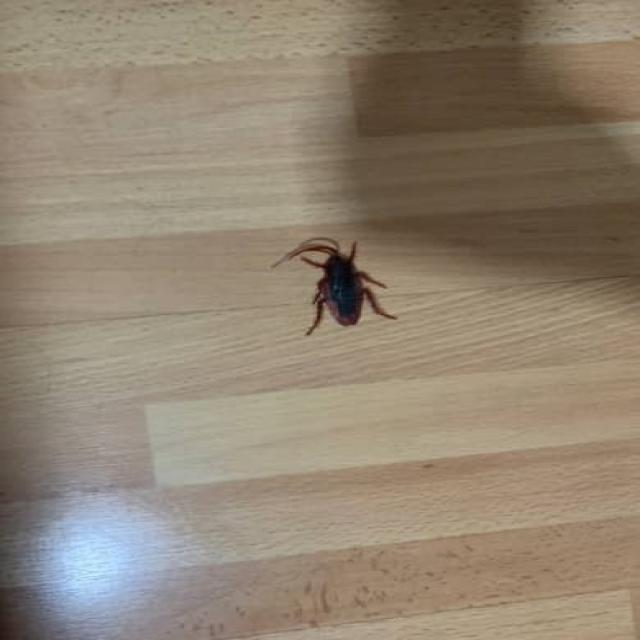Cockroach: (271, 234, 407, 340)
